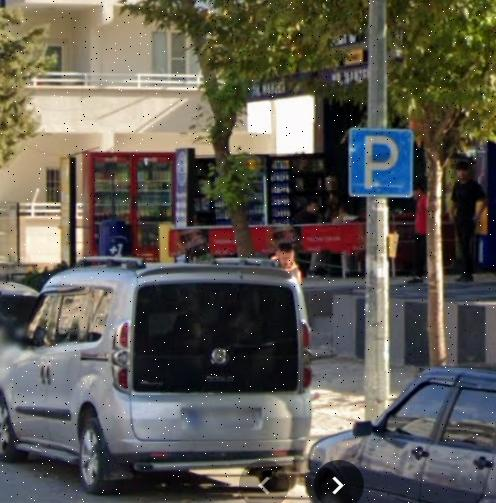park: (350, 129, 411, 194)
